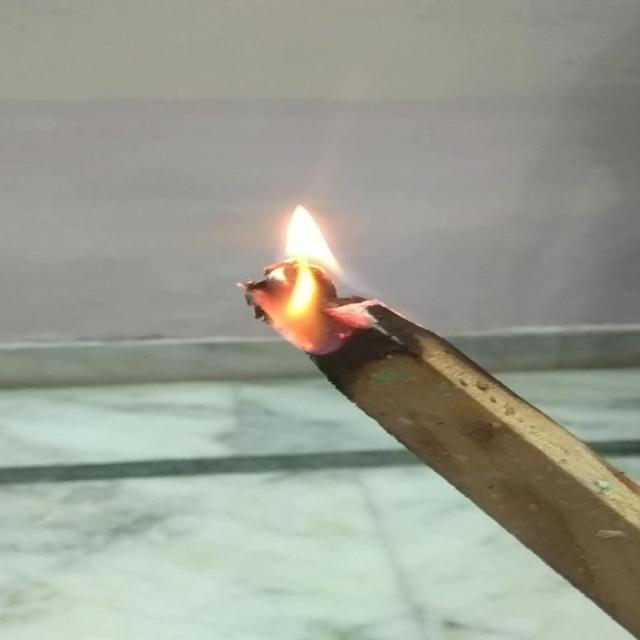smoke: (234, 194, 384, 362)
